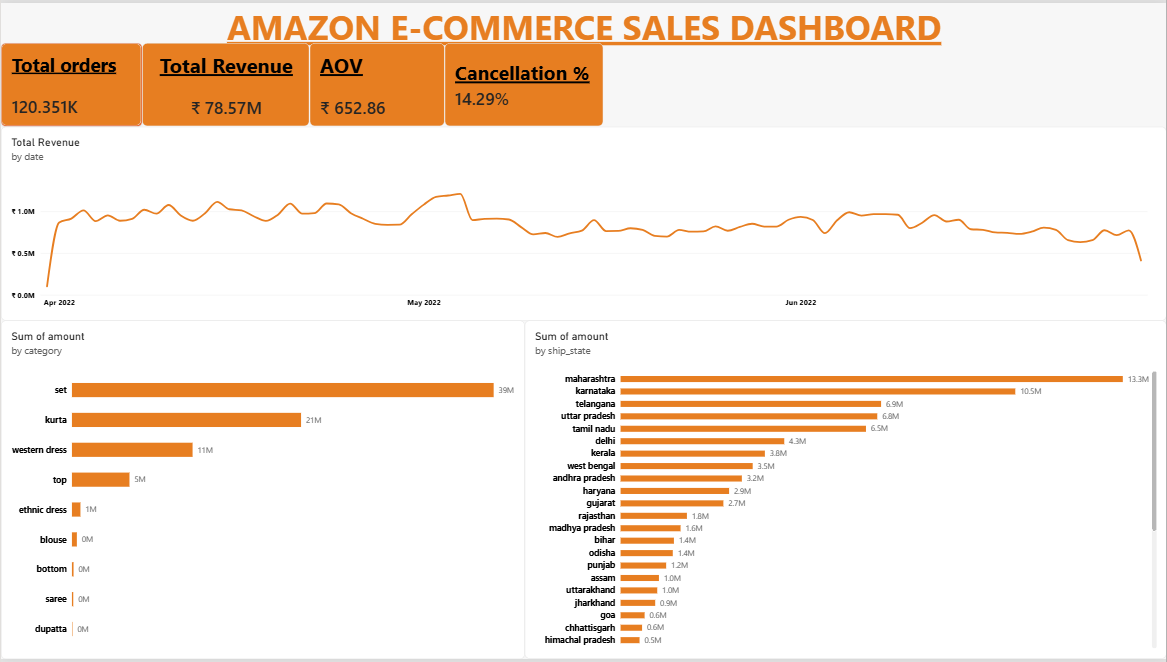

Layout of this report page (visuals, bound fields, positions):
{"tool":"powerbi","page":{"name":"Page 1","canvas":[1920,1080],"ordinal":0},"visuals":[{"type":"textbox","box":[0,0,1920.4,80.3],"z":0},{"type":"cardVisual","fields":{"Data":["Count(Sheet1.order_id)"]},"box":[0,65.9,232.6,137.9],"z":1000},{"type":"cardVisual","fields":{"Data":["Sheet1.Cancellation %"]},"box":[730.7,65.9,261.4,137.9],"z":2000},{"type":"cardVisual","fields":{"Data":["Sheet1.AOV"]},"box":[508.4,65.9,222.3,137.9],"z":3000},{"type":"cardVisual","fields":{"Data":["Sheet1.Total Revenue"]},"box":[232.6,65.9,275.8,137.9],"z":4000},{"type":"lineChart","fields":{"Category":["Sheet1.date"],"Y":["Sheet1.Total Revenue"]},"box":[0,203.8,1920.4,319],"z":5000},{"type":"barChart","fields":{"Category":["Sheet1.category"],"Y":["Sum(Sheet1.amount)"]},"box":[0,522.8,862.4,557.8],"z":6000},{"type":"barChart","fields":{"Category":["Sheet1.ship_state"],"Y":["Sum(Sheet1.amount)"]},"box":[862,523,1058,557],"z":7000}]}

Visuals, with their boxes in screenshot pixels (x1, y1, x2, y2), scaled from the page's 1920x1080 canvas onto the 1167x662 screenshot:
textbox: [0, 0, 1166, 49]
cardVisual - Count(Sheet1.order_id): [0, 40, 141, 125]
cardVisual - Sheet1.Cancellation %: [444, 40, 603, 125]
cardVisual - Sheet1.AOV: [309, 40, 444, 125]
cardVisual - Sheet1.Total Revenue: [141, 40, 309, 125]
lineChart - Sheet1.date x Sheet1.Total Revenue: [0, 125, 1166, 320]
barChart - Sheet1.category x Sum(Sheet1.amount): [0, 320, 524, 661]
barChart - Sheet1.ship_state x Sum(Sheet1.amount): [524, 321, 1166, 661]
